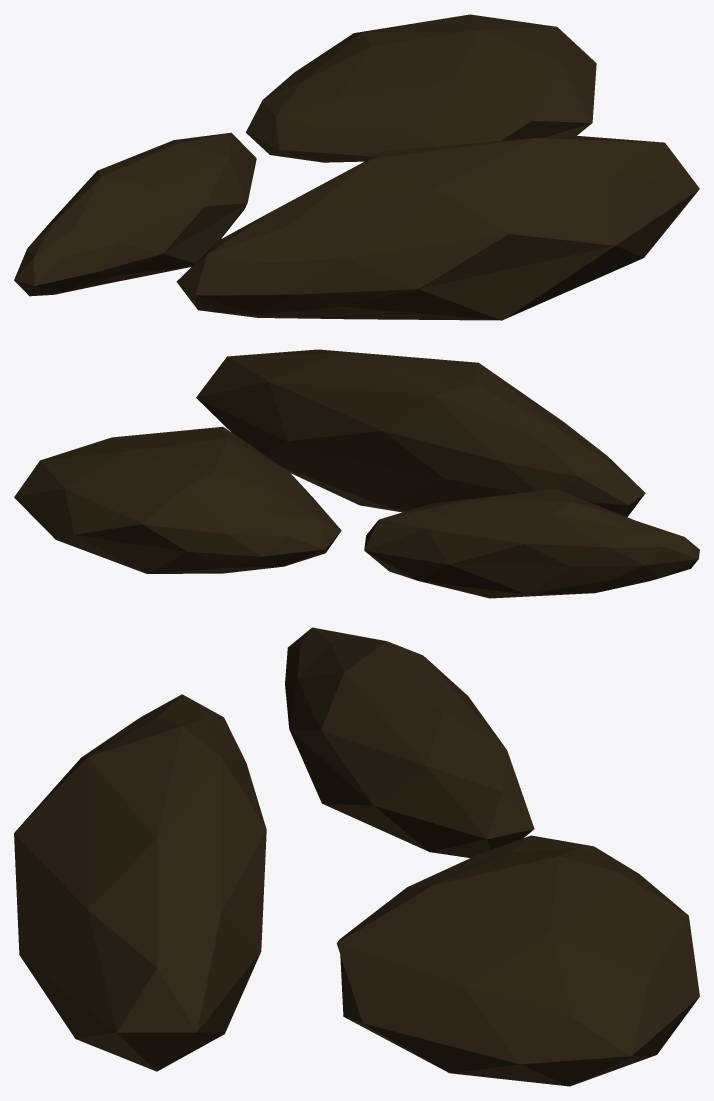
File: Seed.fbx
3 views of the same model, one above another, from view 1: azimuth 30°, elevation 25°; view 2: azimuth 150°, elevation 25°; view 3: azimuth 270°, elevation 25° (orthographic). The views are drawn at different scales.
Visible parts, largest first — view 1: Icosphere.002; view 2: Icosphere.002; view 3: Icosphere.002.
Part boxes in pixels (x1,y1,x2,y2): Icosphere.002: (14,14,699,320); Icosphere.002: (14,349,699,598); Icosphere.002: (14,627,699,1086).
Size of the model in its own units: 207 by 48.38 by 142.
